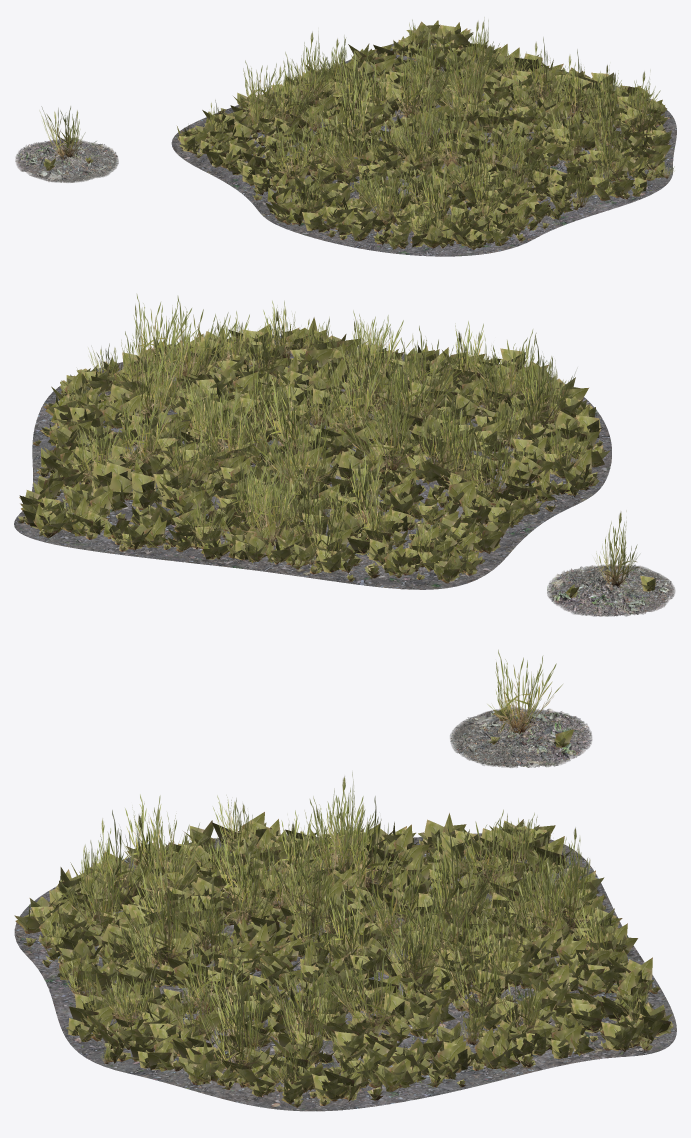
Rendered from simple_grass_chunks.glb.
The picture shows the model from 3 angles, top to bottom: view 1: azimuth 30°, elevation 25°; view 2: azimuth 150°, elevation 25°; view 3: azimuth 270°, elevation 25°; orthographic projection. The views are drawn at different scales.
Visible parts, largest first — view 1: Forest001, rostlinka_7c_scater, ground_close_04, rostlinka_07_ground_rostlinka_07_ground_0, rostlinka_07c; view 2: Forest001, rostlinka_7c_scater, ground_close_04, rostlinka_07_ground_rostlinka_07_ground_0, rostlinka_07c; view 3: Forest001, rostlinka_7c_scater, ground_close_04, rostlinka_07_ground_rostlinka_07_ground_0, rostlinka_07c.
Part boxes in pixels (x1,y1,x2,y2): Forest001: (177, 20, 671, 249); rostlinka_7c_scater: (191, 17, 674, 234); ground_close_04: (171, 42, 676, 256); rostlinka_07_ground_rostlinka_07_ground_0: (15, 137, 118, 182); rostlinka_07c: (39, 106, 85, 160); Forest001: (17, 317, 609, 583); rostlinka_7c_scater: (59, 293, 593, 567); ground_close_04: (14, 335, 611, 589); rostlinka_07_ground_rostlinka_07_ground_0: (547, 564, 675, 616); rostlinka_07c: (595, 511, 638, 590); Forest001: (14, 812, 673, 1107); rostlinka_7c_scater: (45, 772, 652, 1087); ground_close_04: (14, 833, 676, 1111); rostlinka_07_ground_rostlinka_07_ground_0: (450, 706, 592, 767); rostlinka_07c: (487, 649, 562, 734).
Bounding box in the file's own units: 3.75 × 0.7453 × 2.76.
4 materials, 4 textured.
